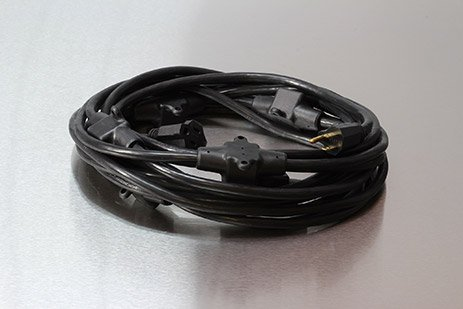Nonrec_Tangler: (43, 55, 421, 239)
